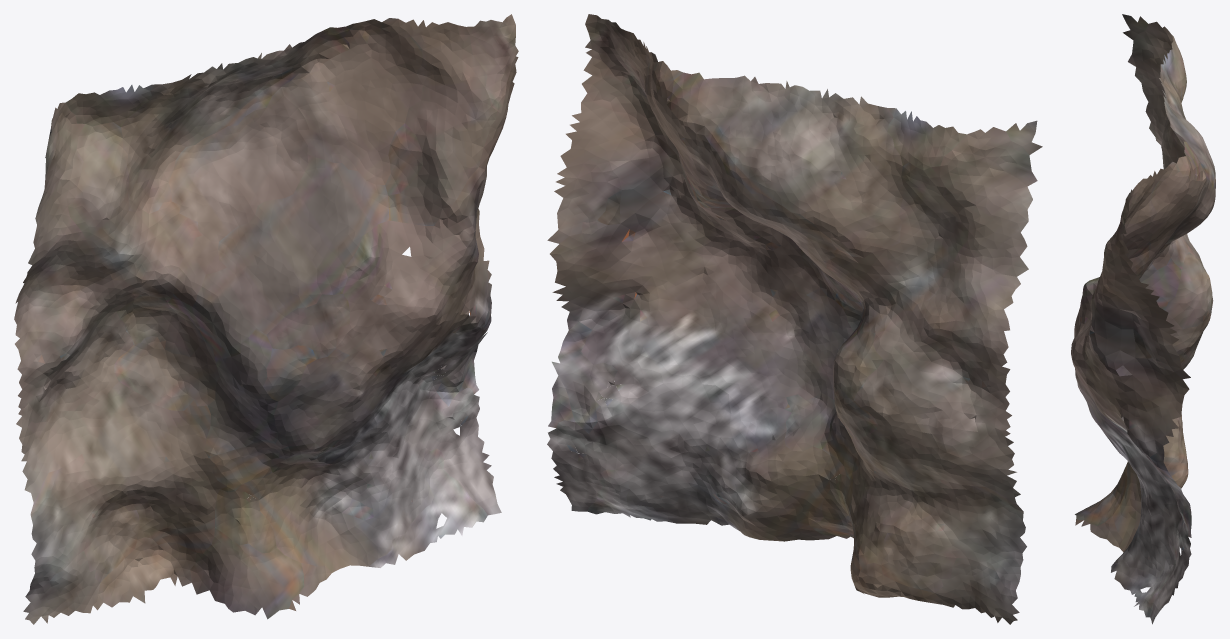
The model's file is tile_0325.gltf.
3 views of the same model, side by side, from view 1: azimuth 30°, elevation 25°; view 2: azimuth 150°, elevation 25°; view 3: azimuth 270°, elevation 25° (orthographic). The views are drawn at different scales.
Visible parts, largest first — view 1: defaultobject; view 2: defaultobject; view 3: defaultobject.
Part boxes in pixels (x1,y1,x2,y2): defaultobject: (14,14,518,624); defaultobject: (547,14,1042,624); defaultobject: (1071,14,1215,624).
Size of the model in its own units: 0.2876 by 0.2959 by 0.0907.
Materials: 2 (2 with a texture image).
